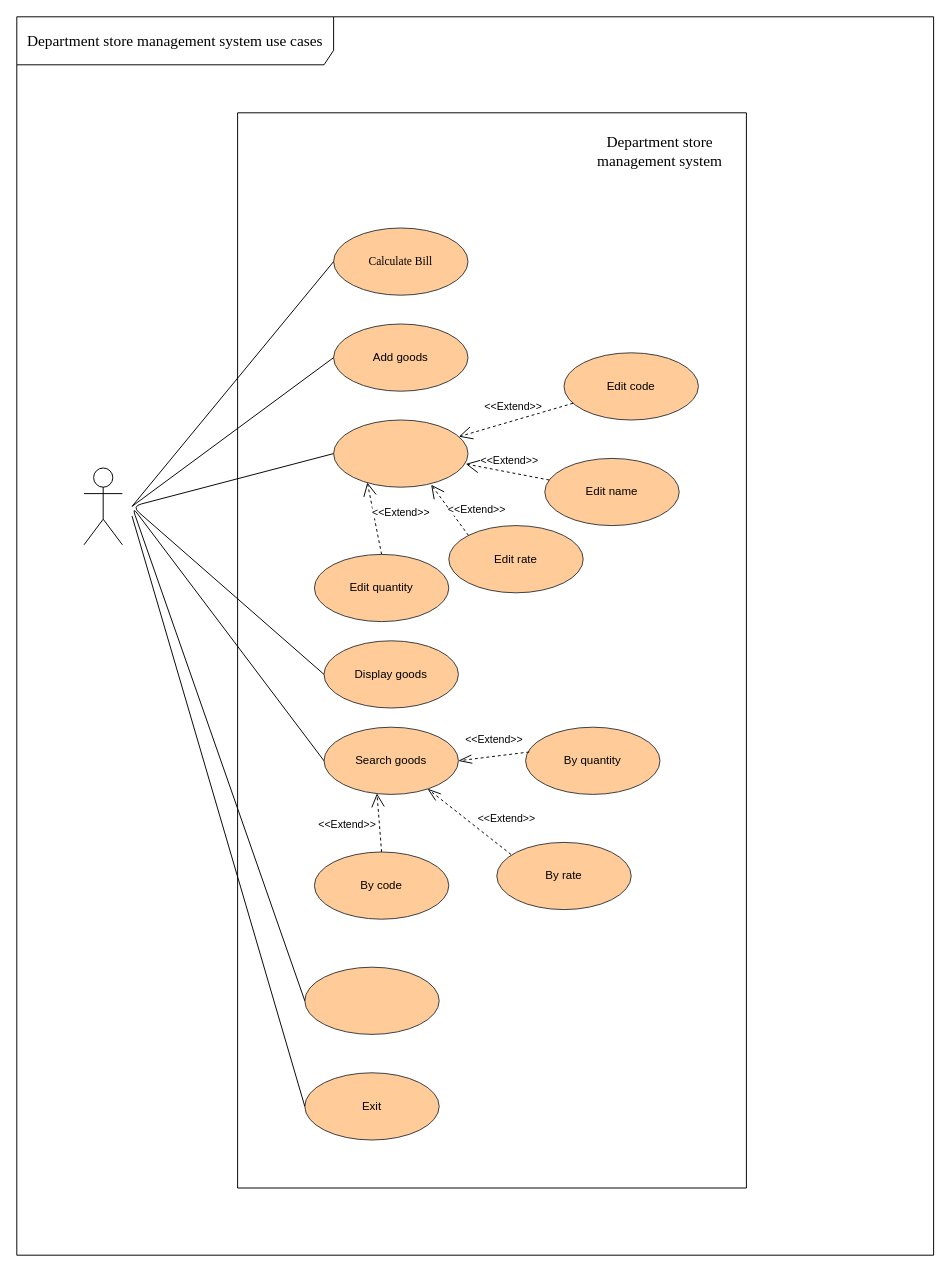
Image size: 950x1272. Some labels were removed from this diagram. Here are the shapes that lost their labels. From the top down, the centre of each, then its label:
At (x=400, y=453): "Edit goods".
At (x=102, y=506): "Retailer".
At (x=371, y=1000): "Delete goods".
